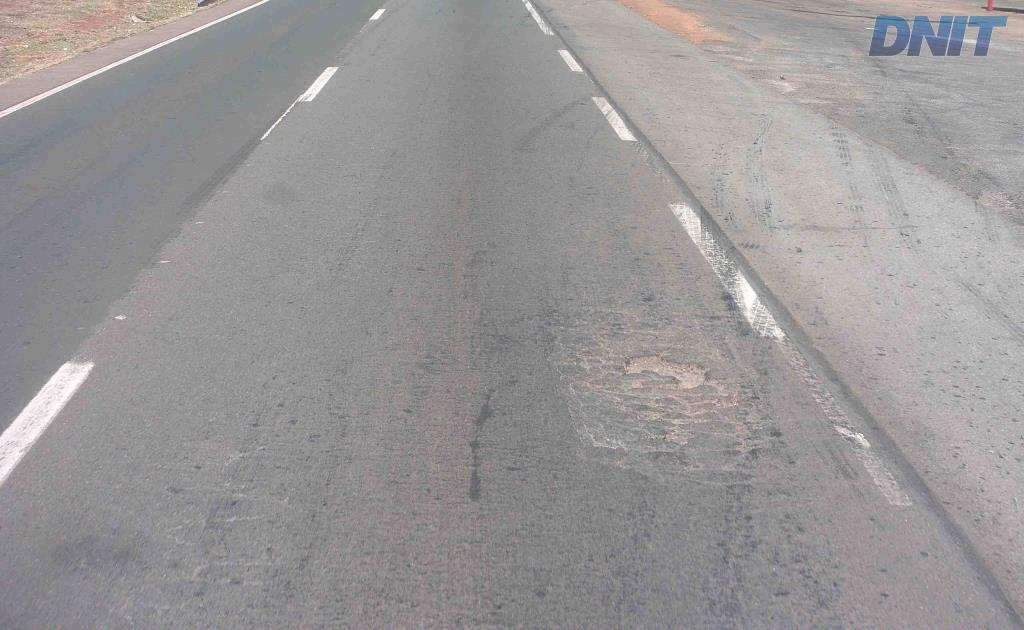pothole: (615, 351, 709, 388)
